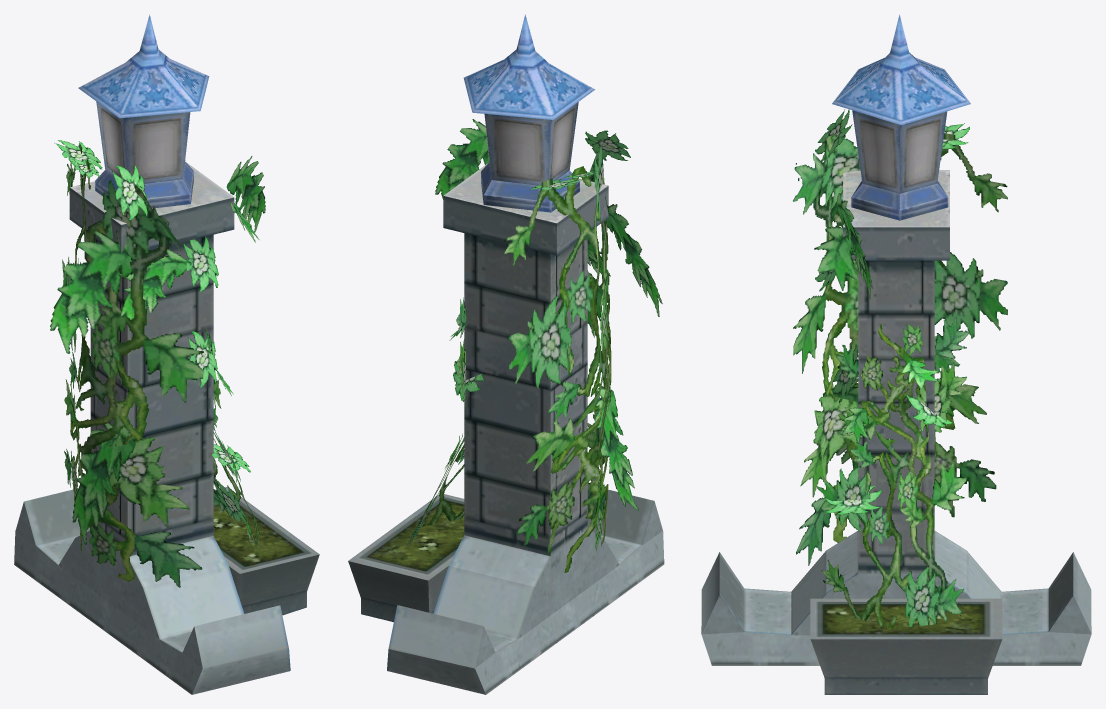
3 views of the same model, side by side, from view 1: azimuth 30°, elevation 25°; view 2: azimuth 150°, elevation 25°; view 3: azimuth 270°, elevation 25° (orthographic). The views are drawn at different scales.
Visible parts, largest first — view 1: geom_node_0; view 2: geom_node_0; view 3: geom_node_0.
Part boxes in pixels (bbox=[...]): geom_node_0: bbox=[14, 14, 319, 694]; geom_node_0: bbox=[348, 14, 664, 694]; geom_node_0: bbox=[701, 14, 1091, 694].
Size of the model in its own units: 1.92 by 4.23 by 2.39.
Materials: 2 (2 with a texture image).
